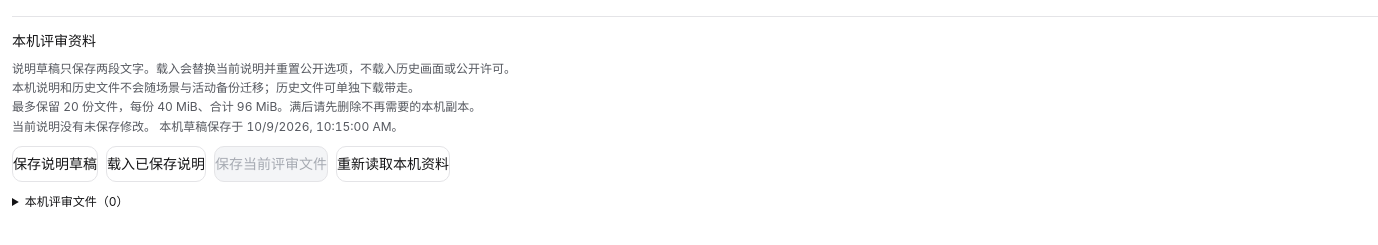
Test: local review library panel › recovers the initial read after StrictMode replay and ignores the late first read for its draft CAS
The width and height of the screenshot is (1378, 245).
Click the button "保存说明草稿". click: (55, 164)
box: [12,146,98,182]
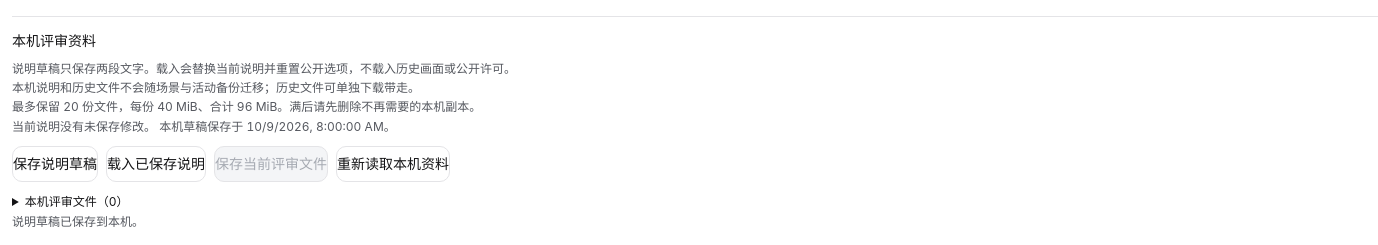
Expected: the text "说明草稿已保存到本机。" is shown, [12,214,144,229]
